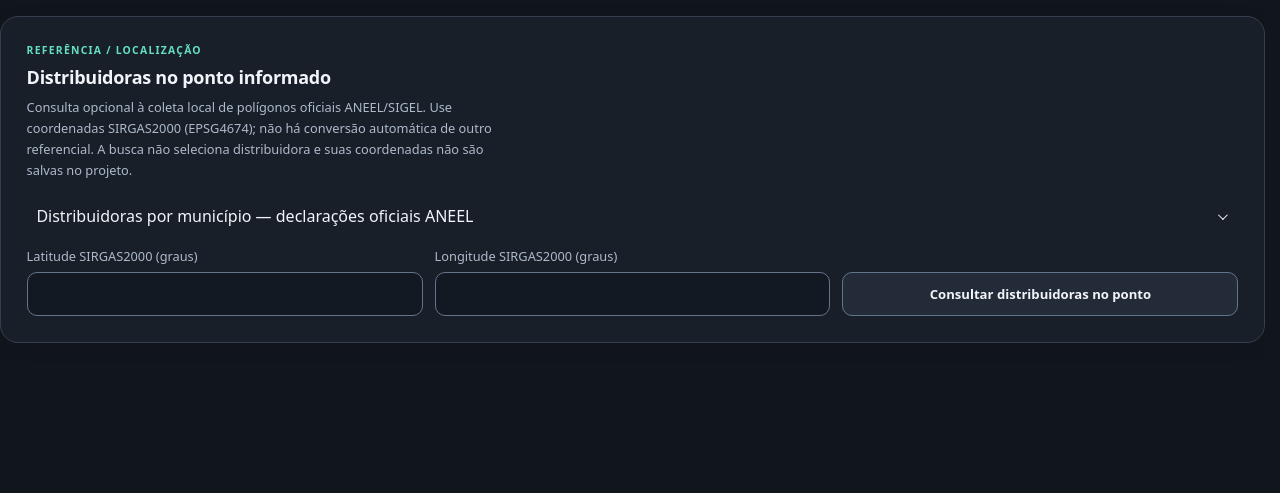
Test: query has no automatic assignment and published results disappear on new input
This screenshot has width=1280, height=493.
Type "-23" into the number field labelled "Latitude SIRGAS2000 (graus)" at [225, 294], box [27,272,422,316]
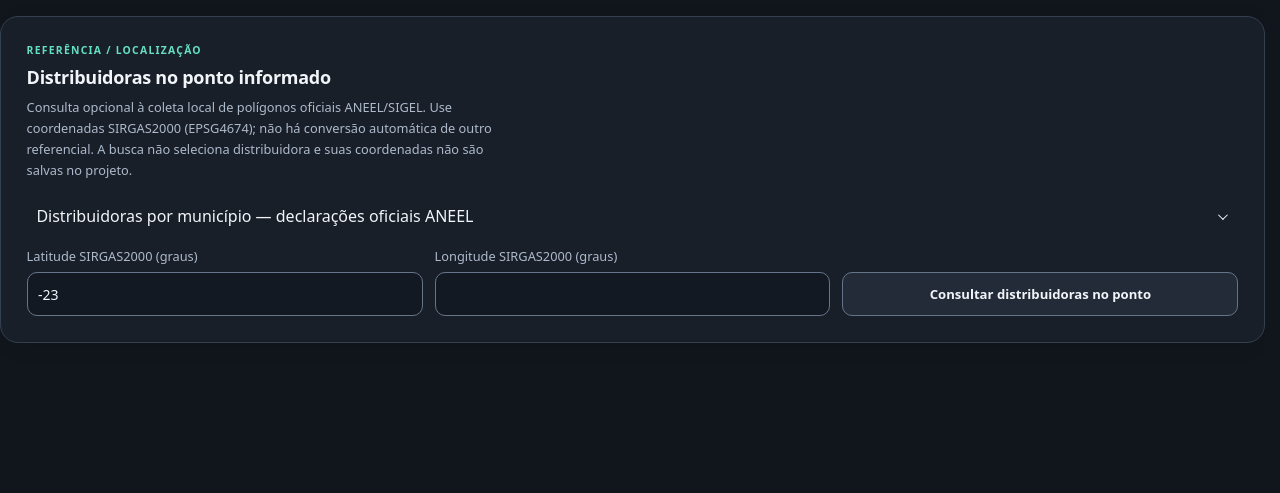
Type "-46" into the number field labelled "Longitude SIRGAS2000 (graus)" at [632, 294], box [434,272,830,316]
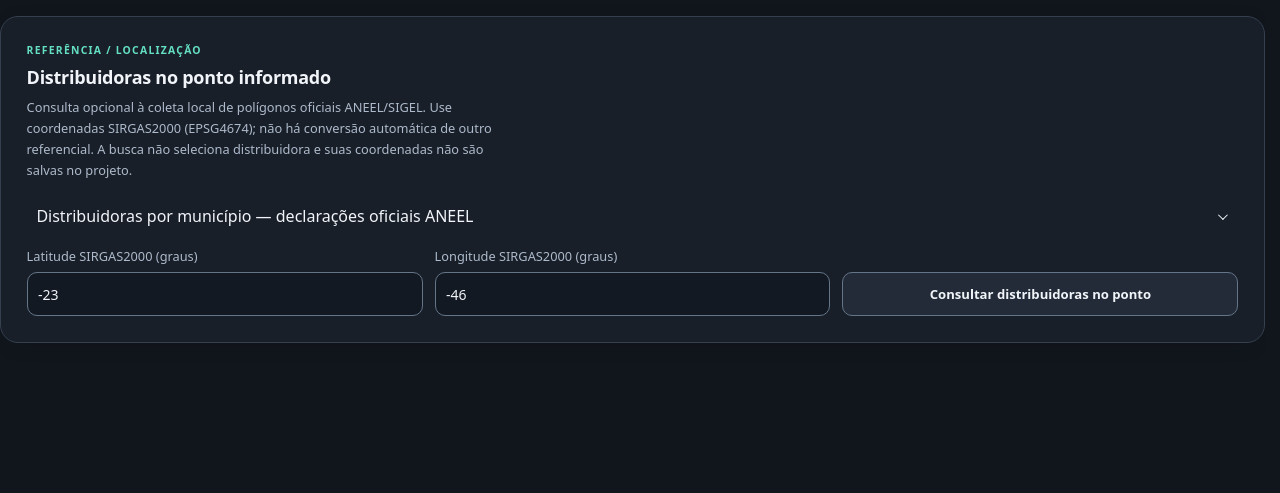
Submit the form named "Consultar distribuidoras no ponto", box [27,247,1238,316]
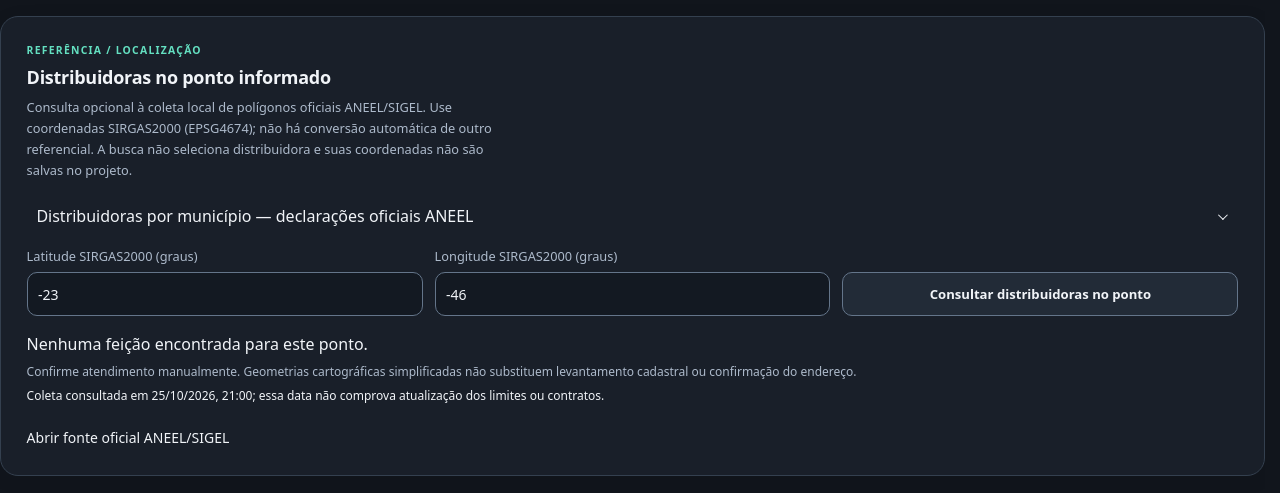
Expected: the text "Nenhuma feição encontrada para este ponto." is shown, [27,333,368,355]
Replace the text in the number field labelled "Latitude SIRGAS2000 (graus)" with "-24" at [225, 294], box [27,272,422,316]
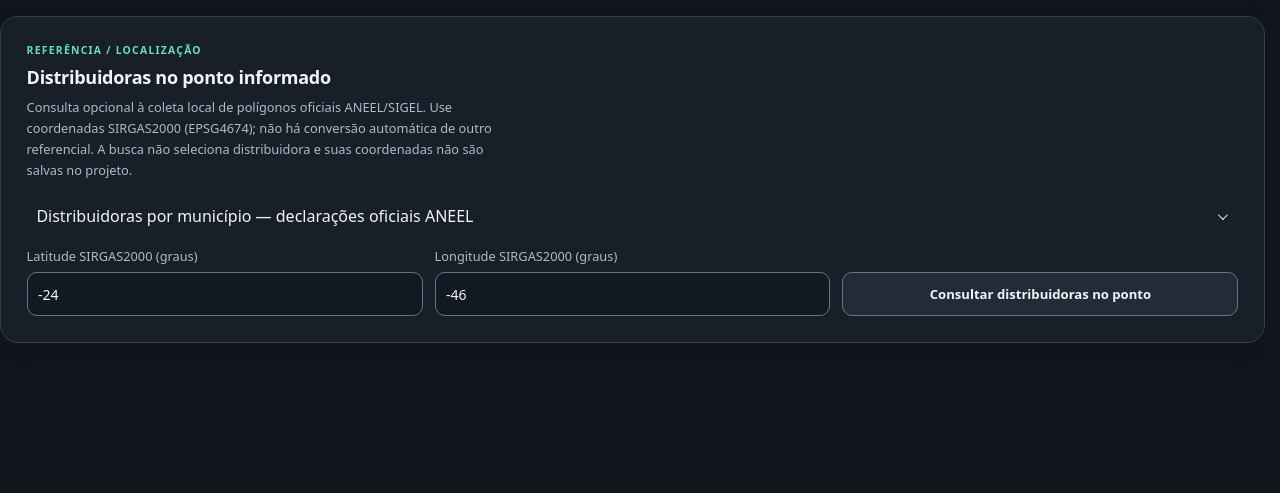
Expected: the text "não seleciona distribuidora" is shown, [27,98,492,179]
Expected: the text "Nenhuma feição encontrada para este ponto." is gone
